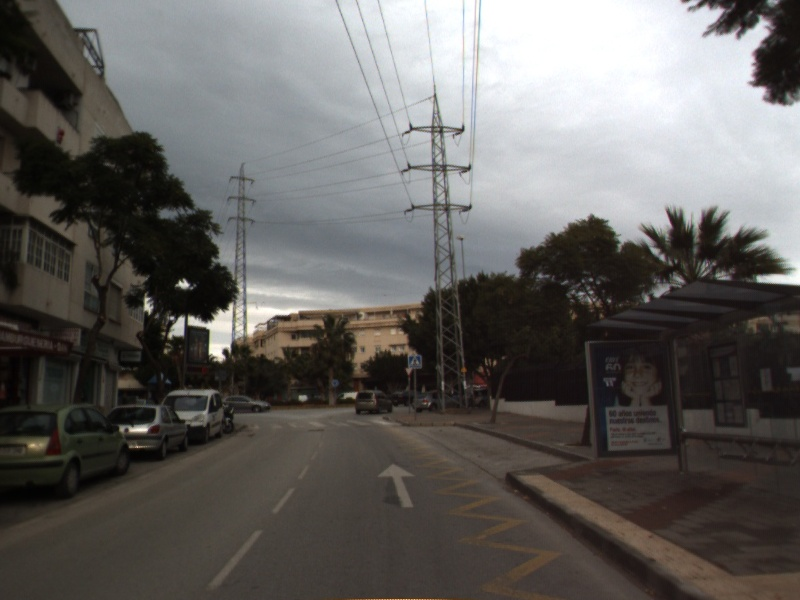STRAIGHT: (375, 461, 418, 509)
